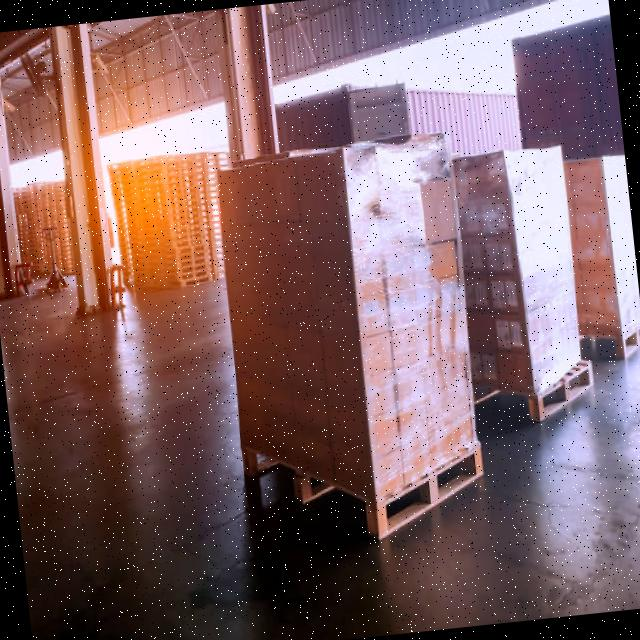Wooden-Pallets: (237, 437, 490, 548), (531, 356, 602, 427)
